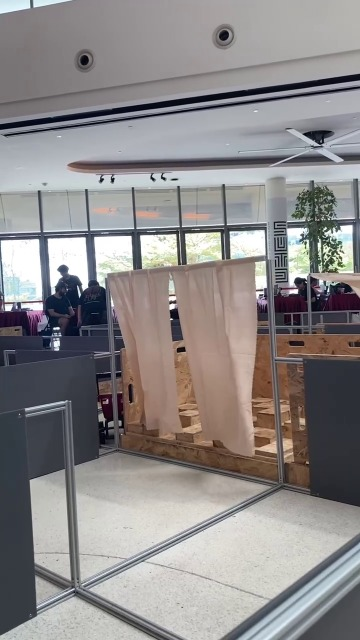curtain: (79, 269, 270, 435)
